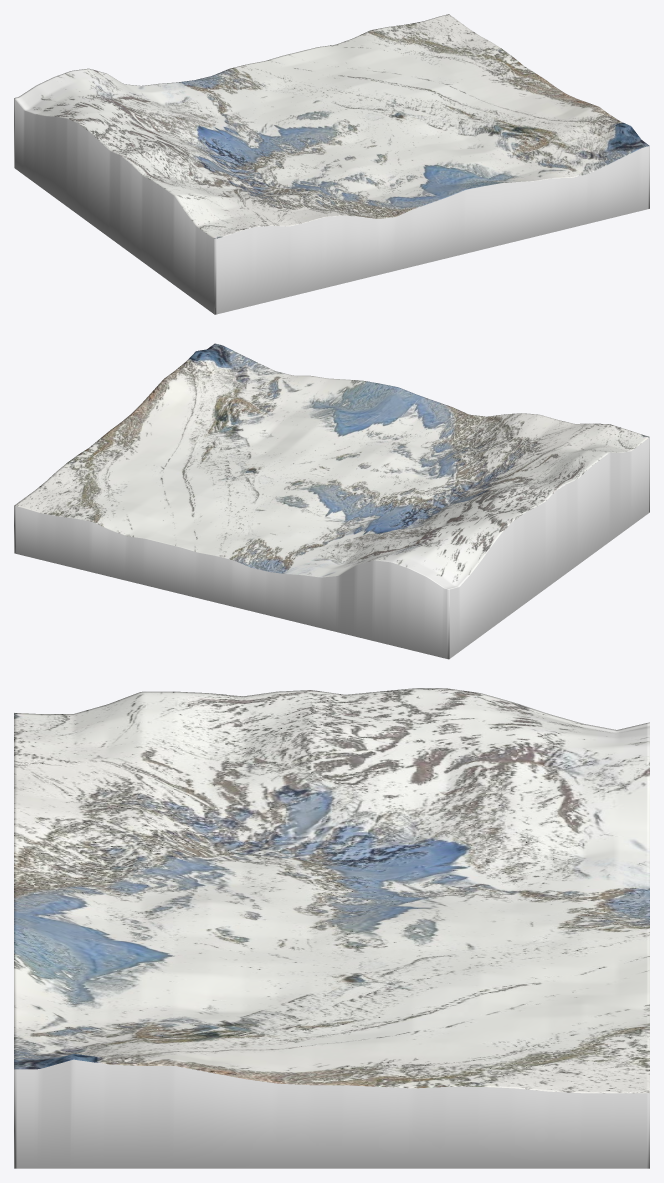
The model's file is Apatlaco.fbx.
3 views of the same model, one above another, from view 1: azimuth 30°, elevation 25°; view 2: azimuth 150°, elevation 25°; view 3: azimuth 270°, elevation 25° (orthographic). The views are drawn at different scales.
Visible parts, largest first — view 1: EXPORT_GOOGLE_SAT_WM; view 2: EXPORT_GOOGLE_SAT_WM; view 3: EXPORT_GOOGLE_SAT_WM.
Boxes of the visible parts, x1,y1,x2,y2 form: EXPORT_GOOGLE_SAT_WM: (14, 14, 649, 314); EXPORT_GOOGLE_SAT_WM: (14, 343, 649, 659); EXPORT_GOOGLE_SAT_WM: (14, 688, 649, 1168).
Bounding box in the file's own units: 76437 × 15304 × 61150.
